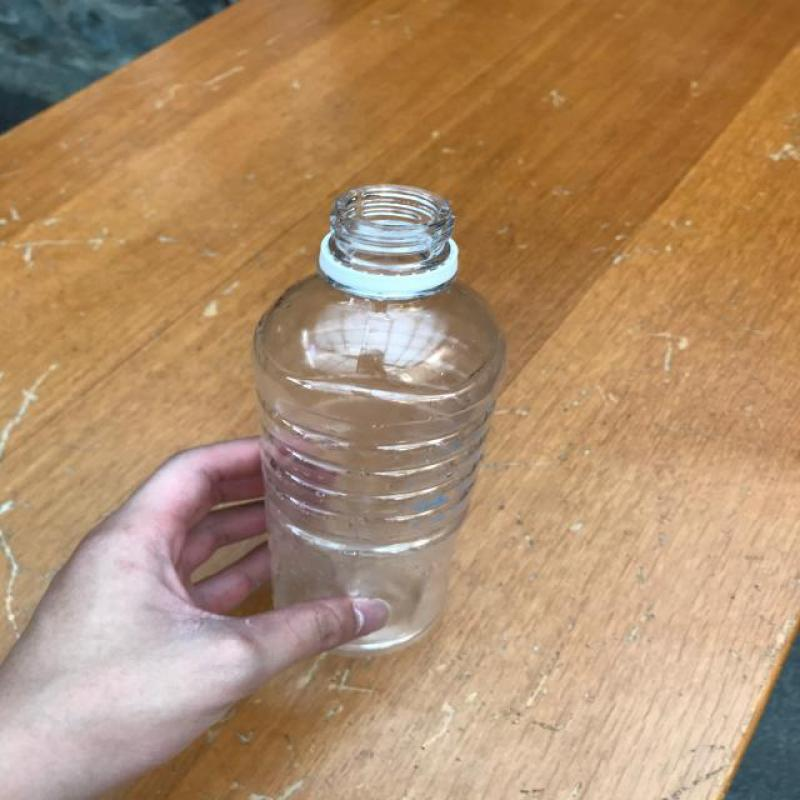botella: (252, 184, 506, 658)
